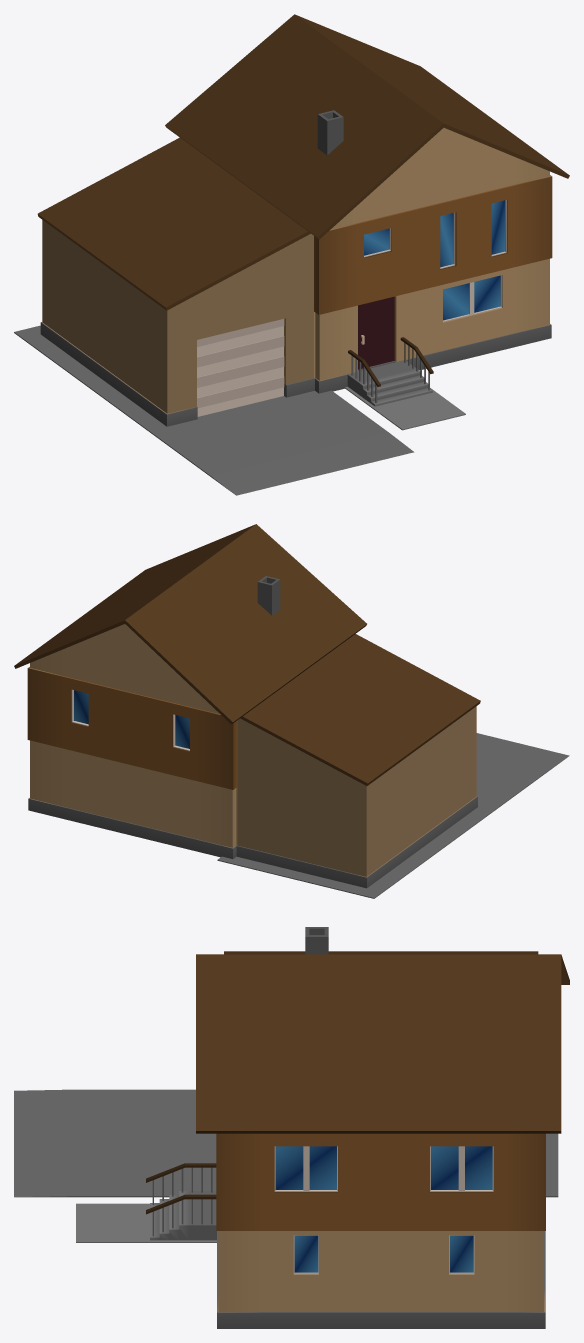
File: cottage_ex_4.fbx
3 views of the same model, one above another, from view 1: azimuth 30°, elevation 25°; view 2: azimuth 150°, elevation 25°; view 3: azimuth 270°, elevation 25° (orthographic). The views are drawn at different scales.
Parts seen in each view (by area): view 1: cottage_ex_4; view 2: cottage_ex_4; view 3: cottage_ex_4.
Part boxes in pixels (bbox=[...]): cottage_ex_4: bbox=[14, 14, 569, 495]; cottage_ex_4: bbox=[14, 524, 569, 898]; cottage_ex_4: bbox=[14, 927, 569, 1328].
Size of the model in its own units: 1831 by 1069 by 1766.
